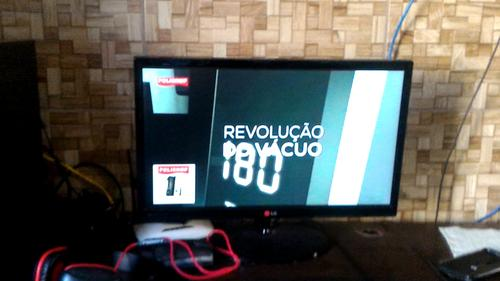Polishop #1: (152, 164, 196, 204)
